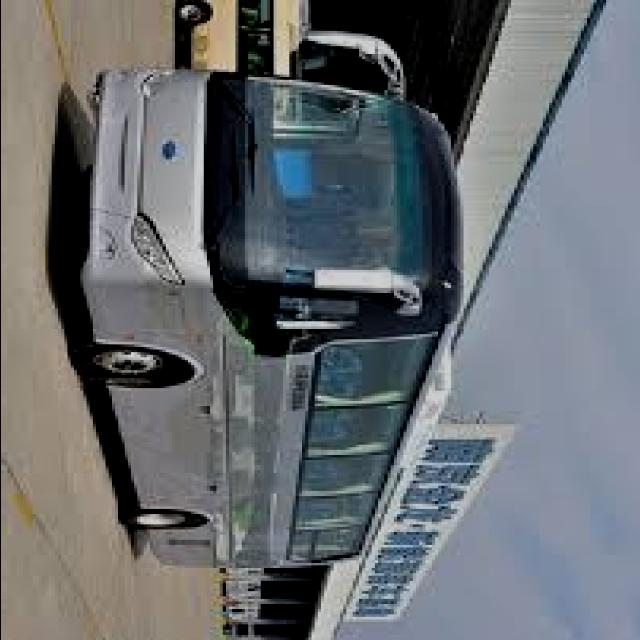bus: (84, 18, 488, 580)
